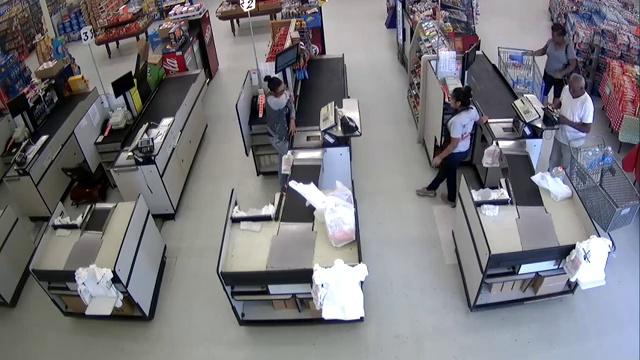face: (567, 81, 580, 97), (449, 94, 460, 109), (552, 31, 563, 44), (275, 87, 286, 97)
